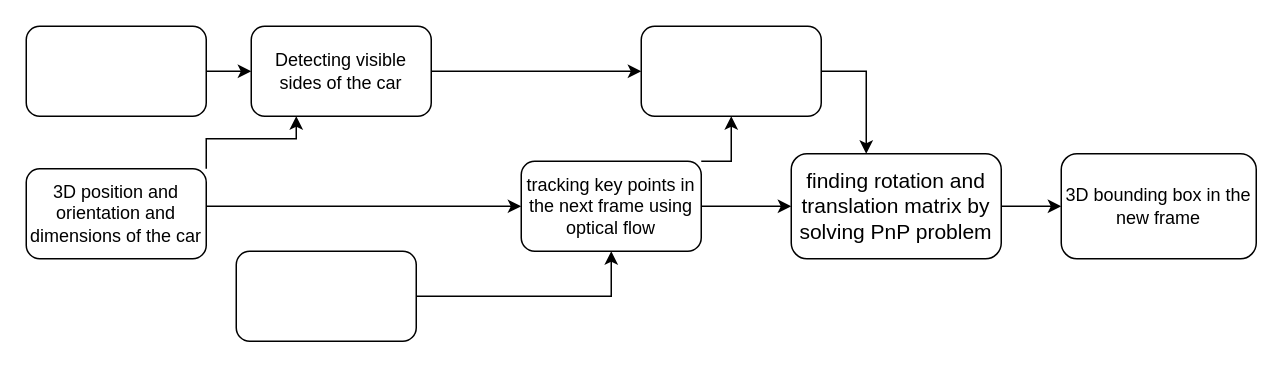
Some shapes in this 1283 by 368 pixel diagram are drawn without their labels. Each missing label, with the box of its shape:
calibration matrix of Camera: (25, 25, 206, 116)
finding 3D position of the key points in the new frame: (640, 25, 821, 116)
finding Key points in the raw image of the dataset: (235, 250, 416, 341)
